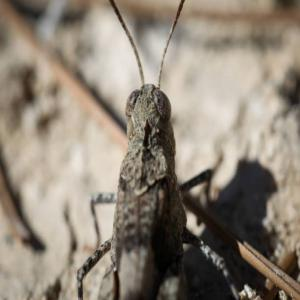locust: (101, 36, 203, 275)
